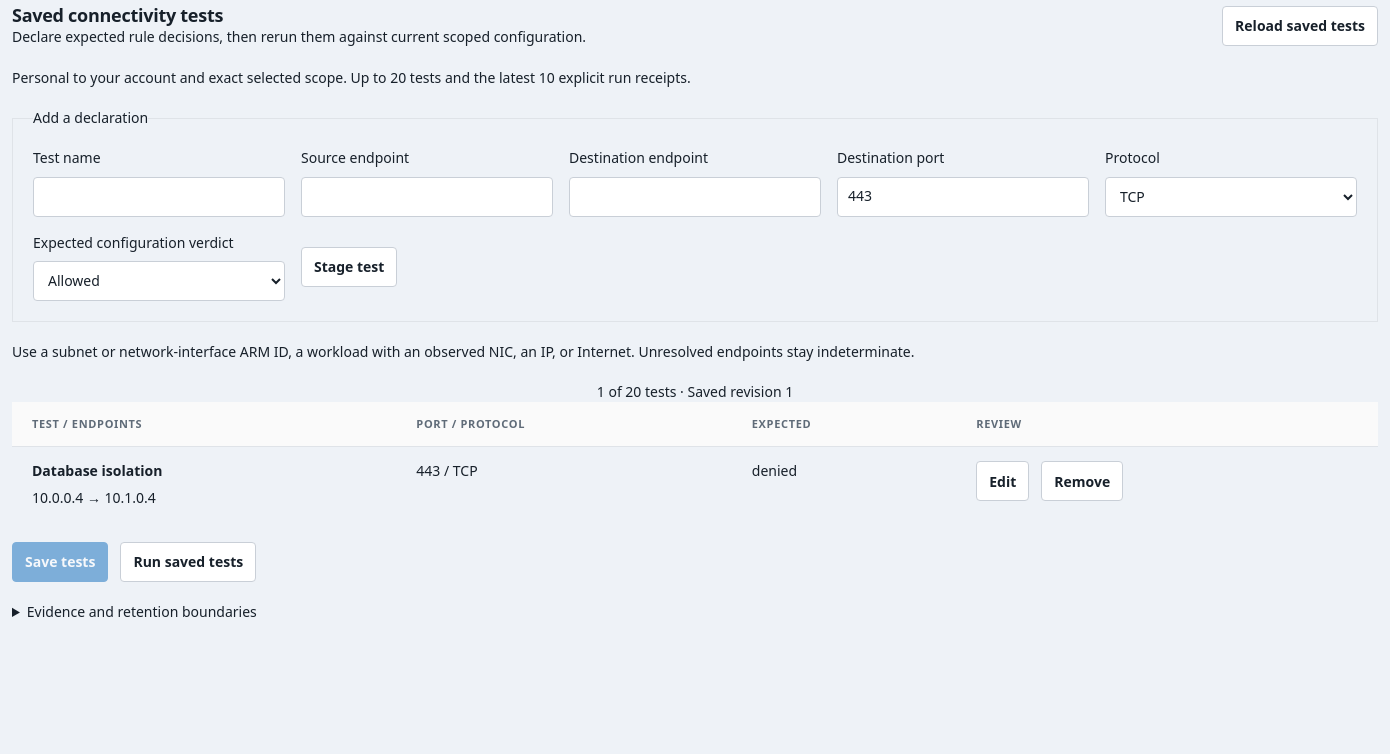
Test: Saved connectivity declarations › reads declarations only, then explicitly runs the saved revision
The width and height of the screenshot is (1390, 754).
Expected: the text "Database isolation" is shown, [32,461,162,480]
Click the button "Run saved tests" at (188, 562), box [120,542,256,582]
(page scrolled)
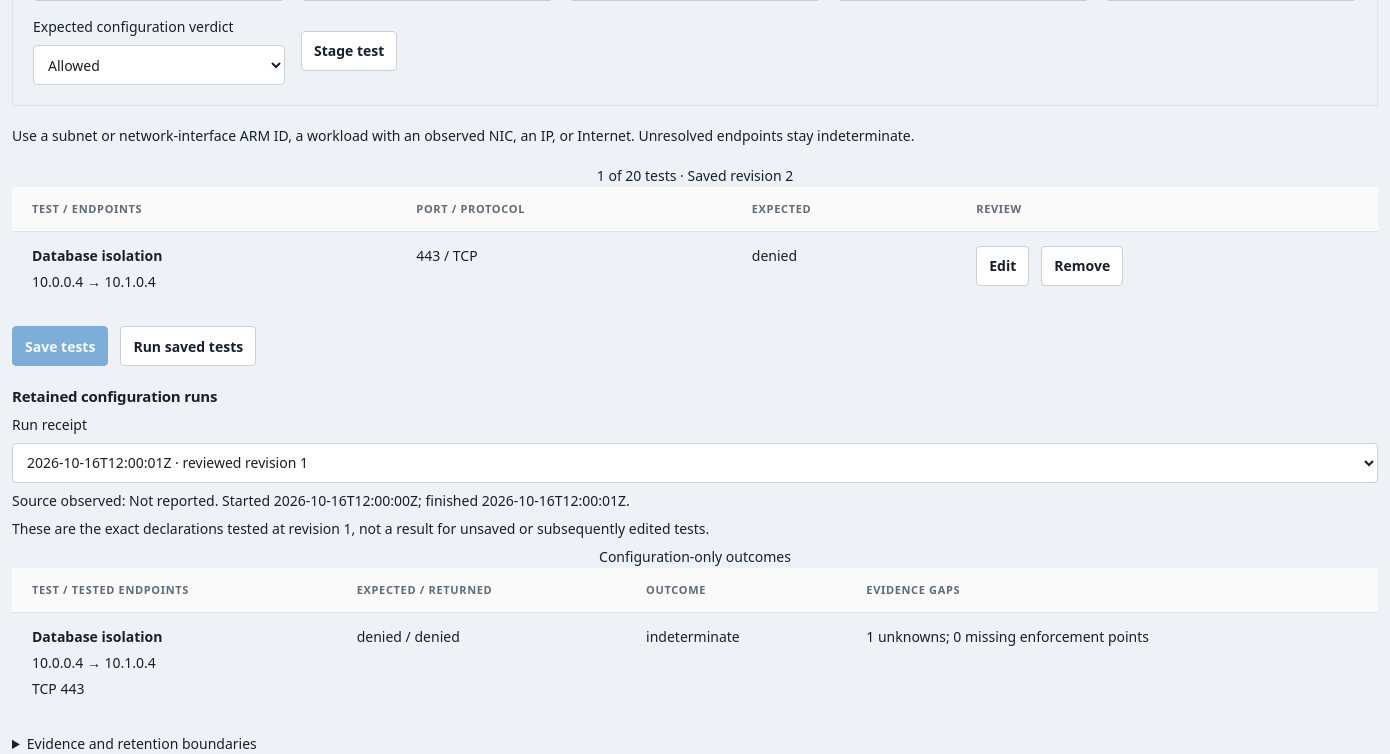
Result: the text "Configuration-only outcomes" is shown at [599,547,791,566]
Result: the text "indeterminate" is shown at [626,612,846,714]
Result: the text "denied / denied" is shown at [337,612,626,714]
